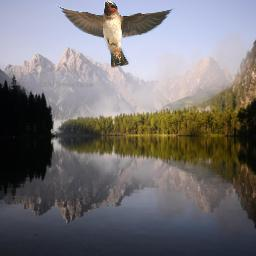Swallow: (53, 0, 175, 68)
